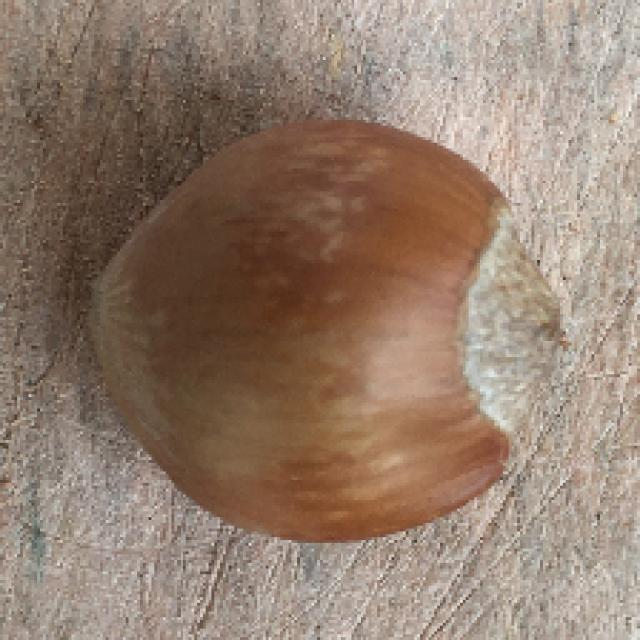damagedHazelnut: (79, 109, 574, 557)
